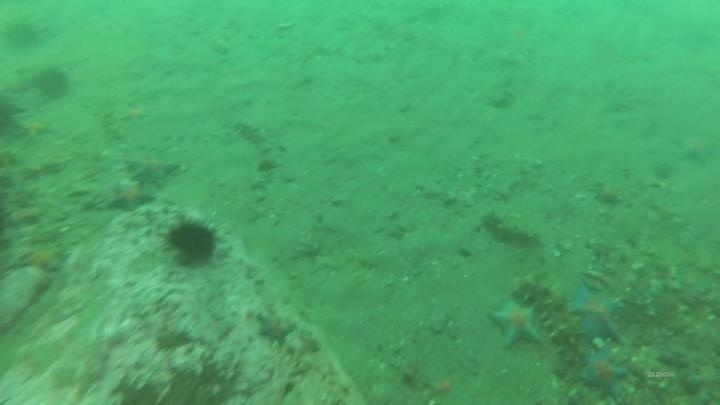echinus: (164, 216, 221, 267), (32, 65, 72, 101), (2, 17, 43, 52), (0, 92, 27, 138)
holothurian: (512, 274, 584, 364), (480, 208, 542, 249), (230, 117, 275, 156)
starfish: (566, 281, 627, 344), (487, 295, 545, 351), (577, 347, 631, 401), (125, 153, 182, 188), (17, 241, 69, 276), (674, 129, 719, 168), (106, 180, 157, 214), (254, 310, 298, 347), (12, 112, 56, 143), (590, 179, 625, 208), (117, 101, 151, 126)
